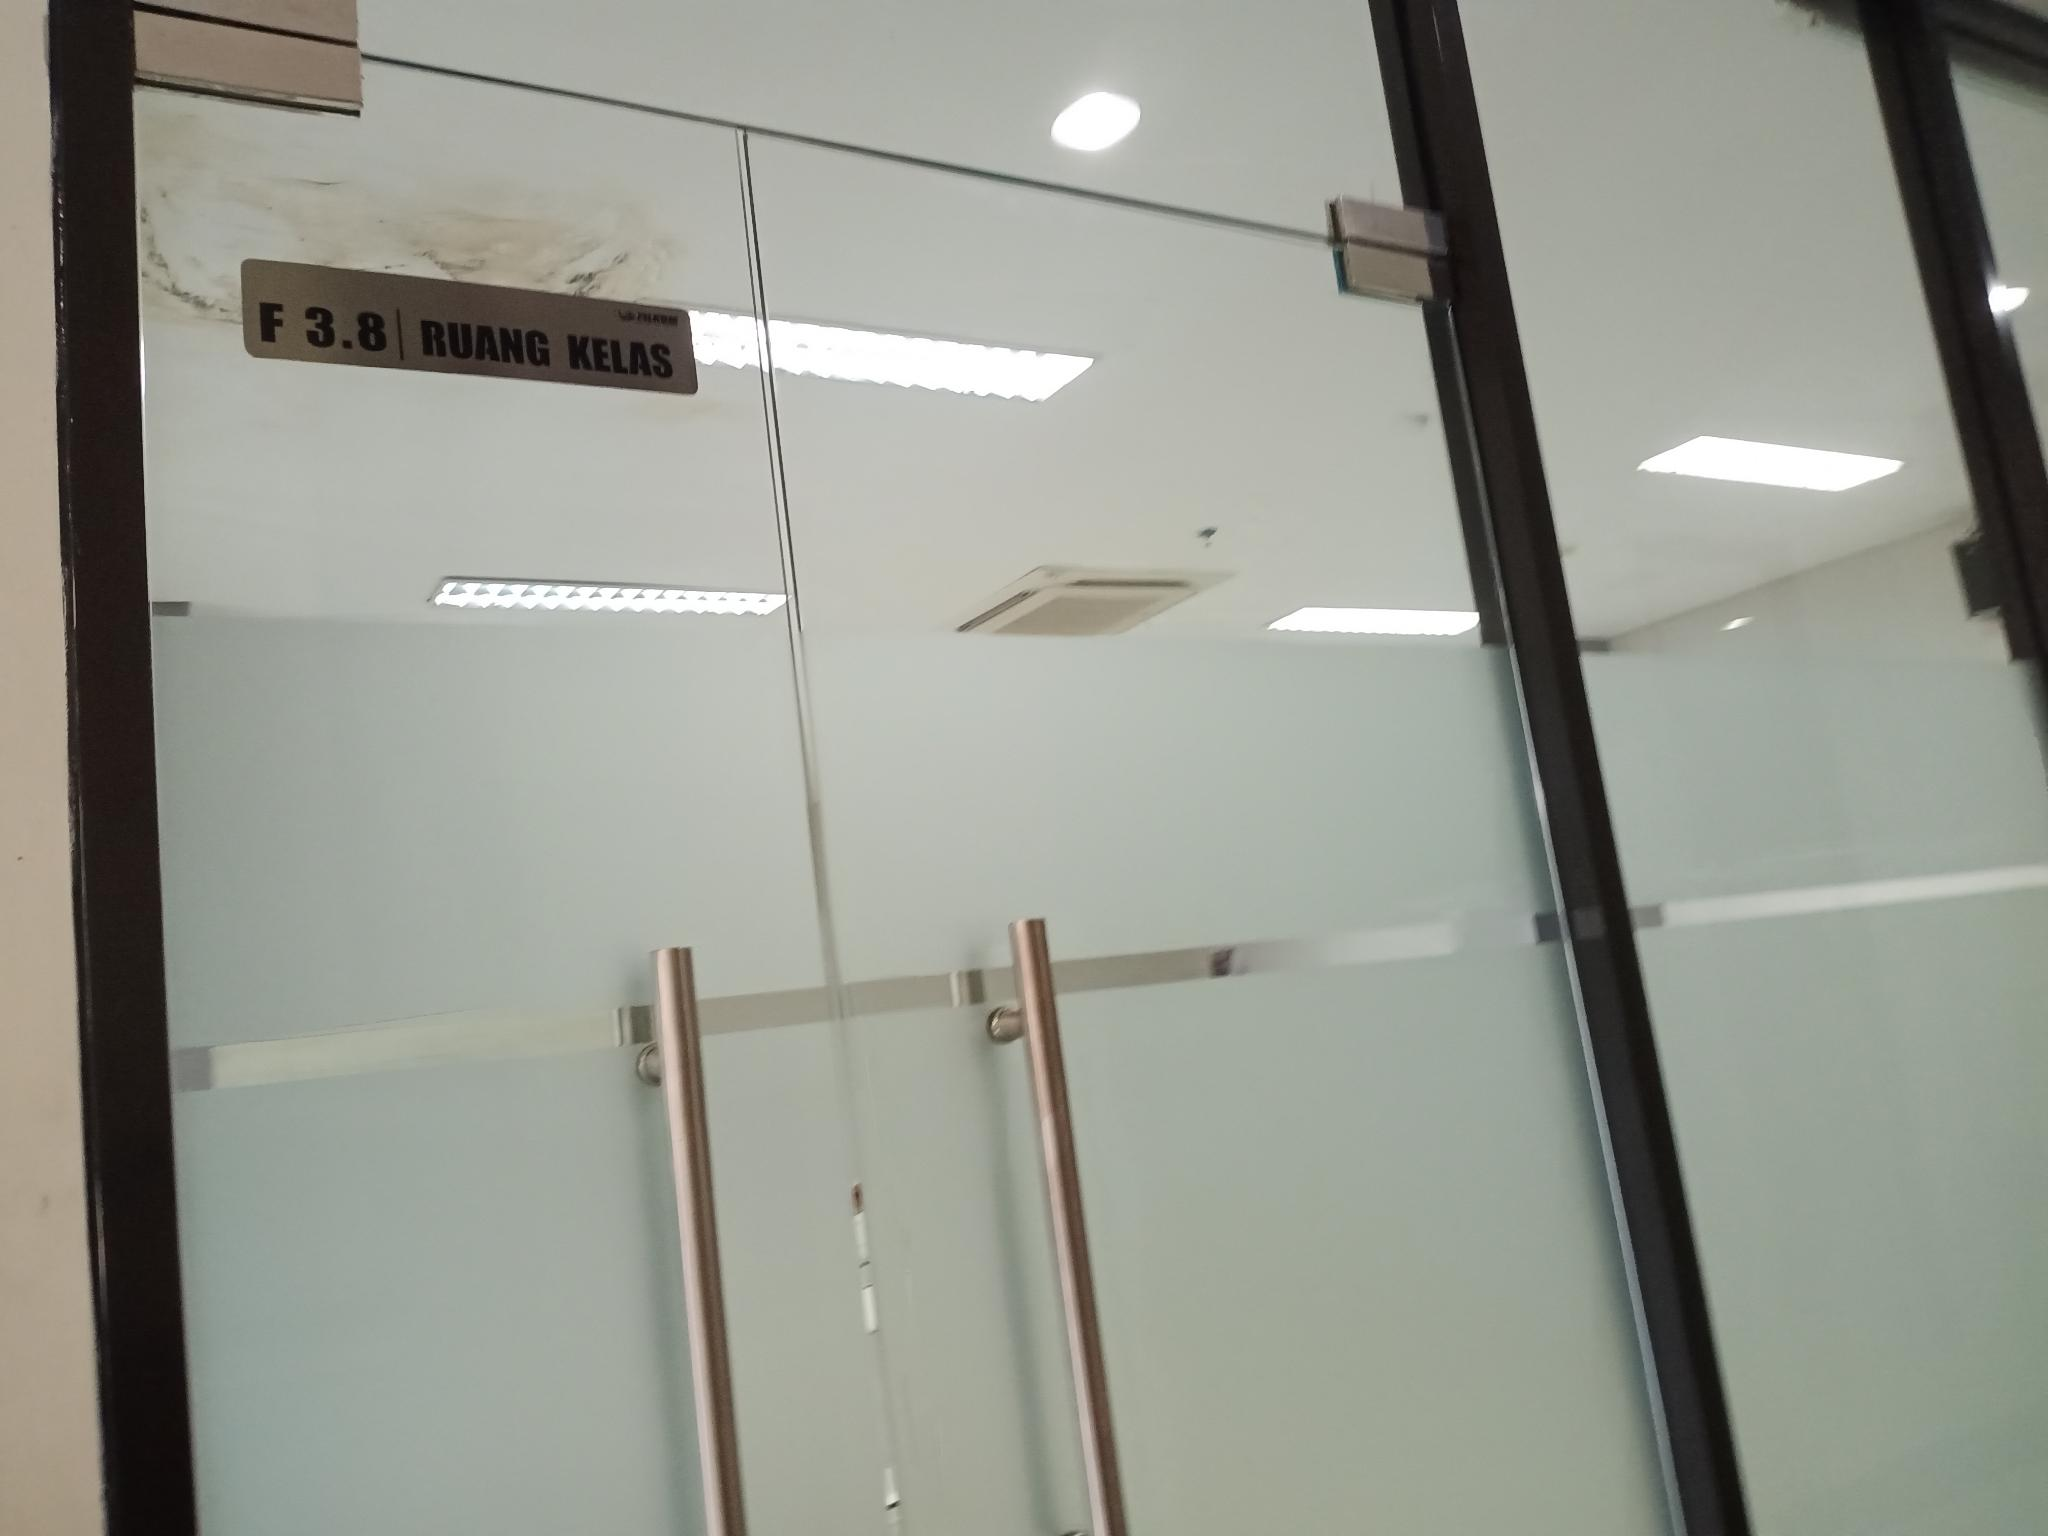plate: (242, 255, 697, 397)
